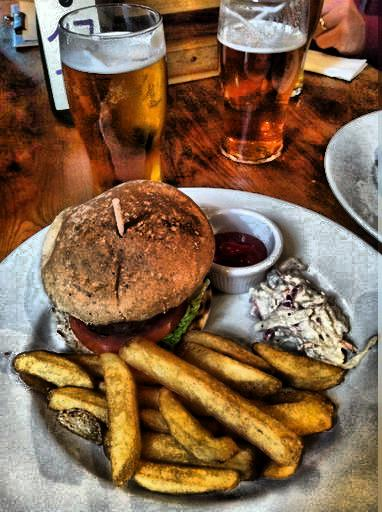burger: (44, 182, 222, 353)
